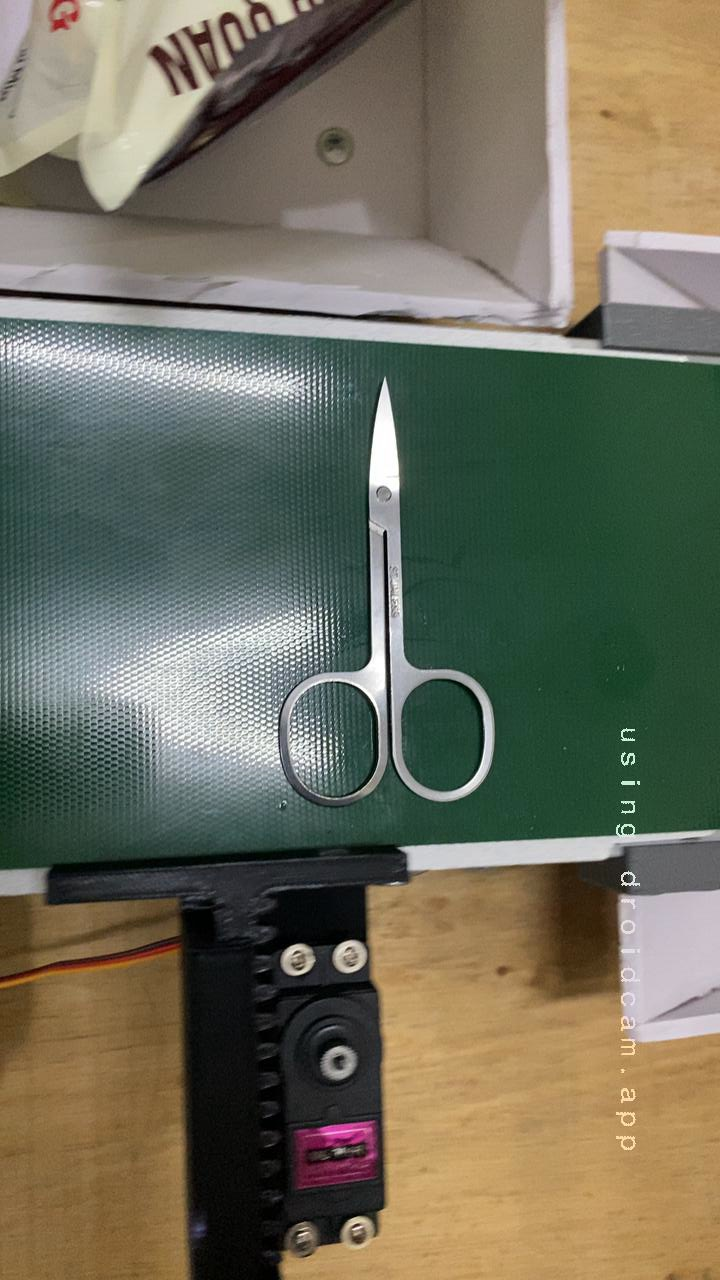scissor: (262, 371, 519, 816)
